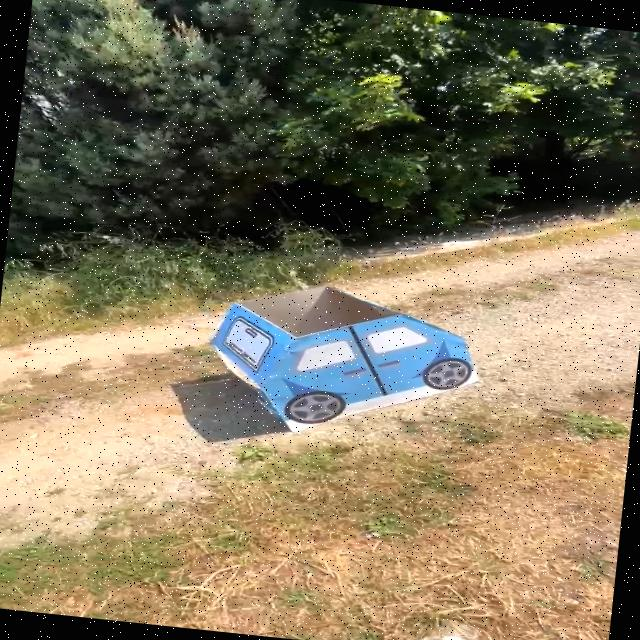blue_car: (195, 263, 494, 463)
